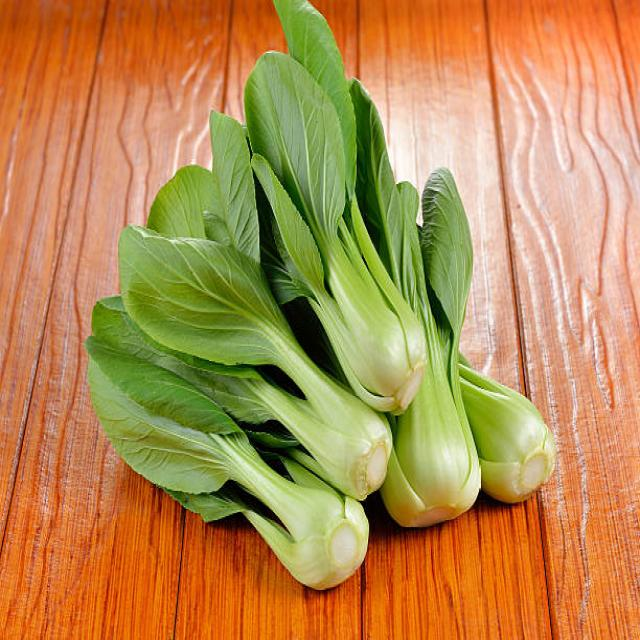bok choy: (145, 417, 329, 627), (196, 237, 380, 431), (285, 117, 384, 378), (489, 339, 561, 500), (420, 332, 469, 533)
